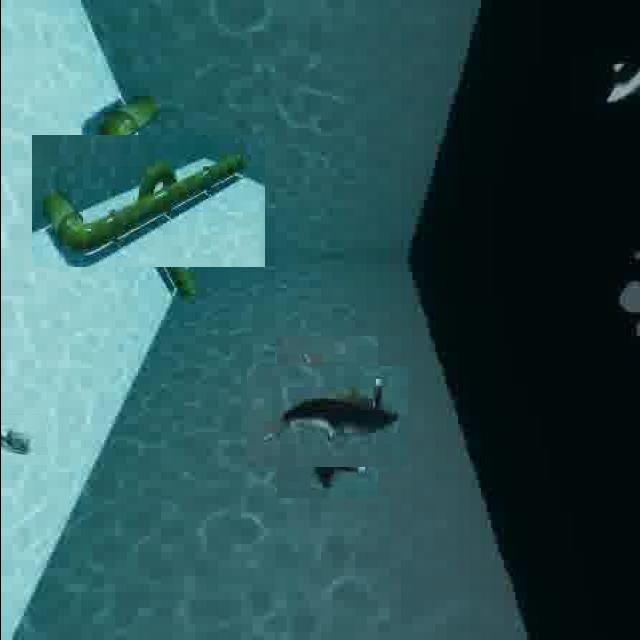Pipe: (56, 110, 240, 292)
Shell: (0, 414, 47, 465)
Whale: (261, 351, 392, 483)
